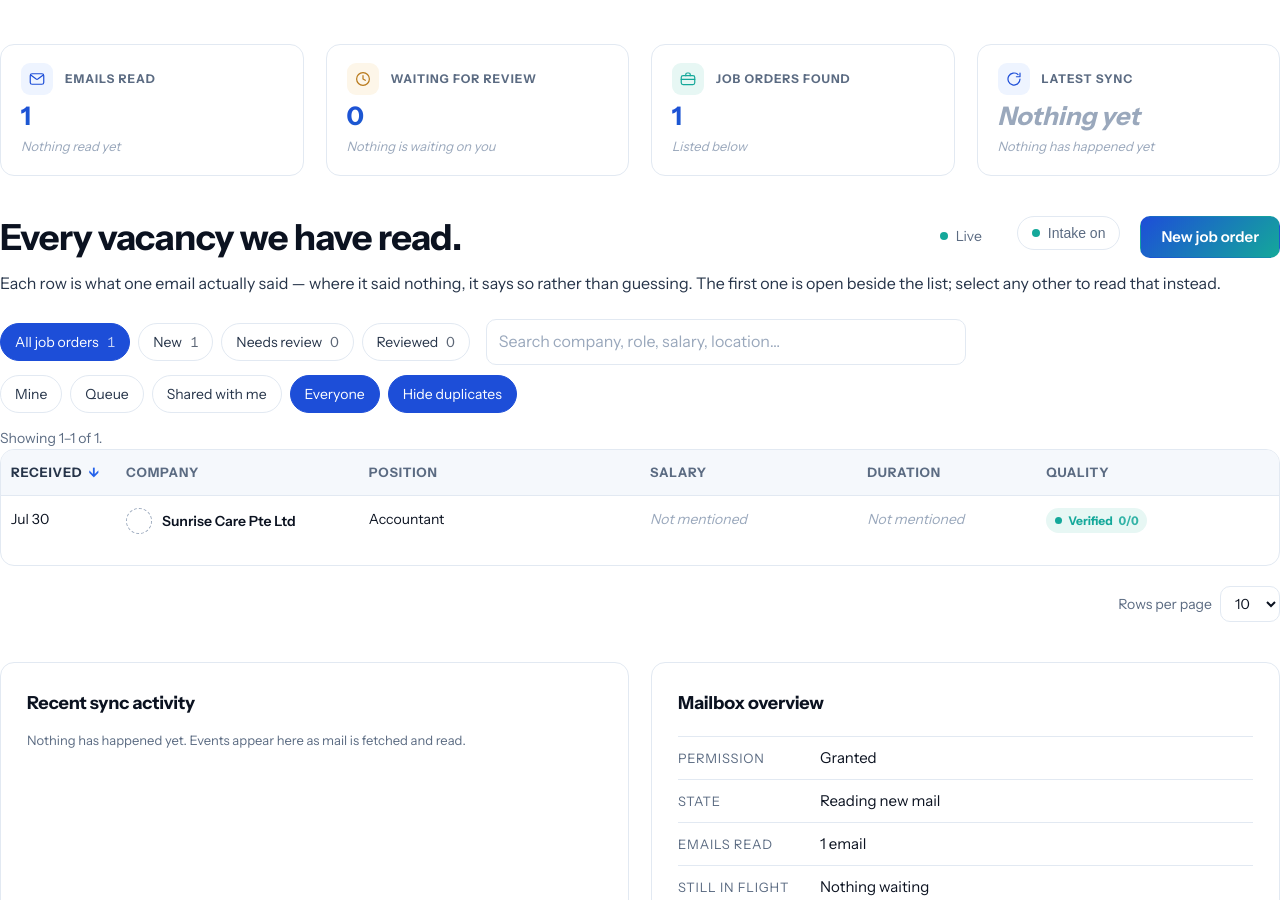
Test case: linking a job order to its client › does not say that when a client is linked
What coordinates should you click on to do the following:
click the button with aria-label "Show details for Sunrise Care Pte Ltd"
I would click on:
 (229, 521)
Its box is [162,510,296,532].
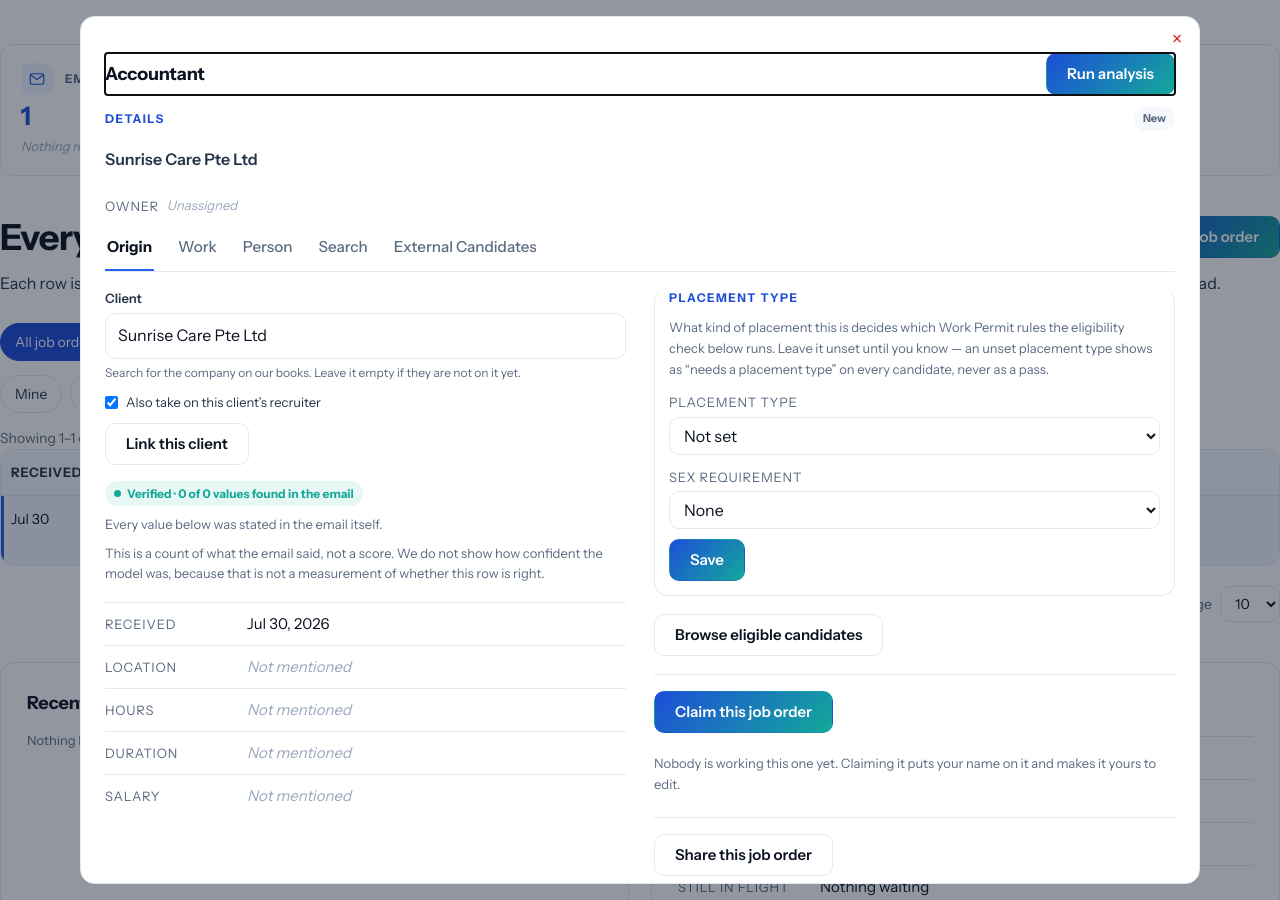
Check: the dropdown labelled "Client" is shown, box [105,313,626,359]
